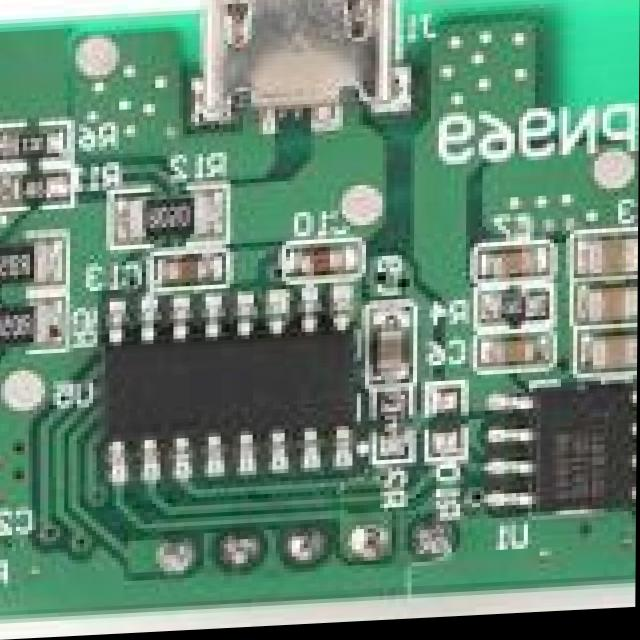IC: (97, 305, 358, 470), (497, 390, 638, 524)
capacitor: (574, 238, 638, 285), (374, 315, 414, 383), (290, 249, 358, 288), (480, 250, 542, 290), (152, 255, 218, 292), (590, 338, 638, 380), (582, 294, 638, 324), (488, 338, 538, 370)
connector: (187, 0, 424, 144)
resistor: (117, 199, 215, 243), (0, 234, 51, 288), (480, 294, 550, 330), (0, 298, 38, 352), (5, 126, 59, 162), (377, 407, 406, 465), (1, 174, 55, 204)
